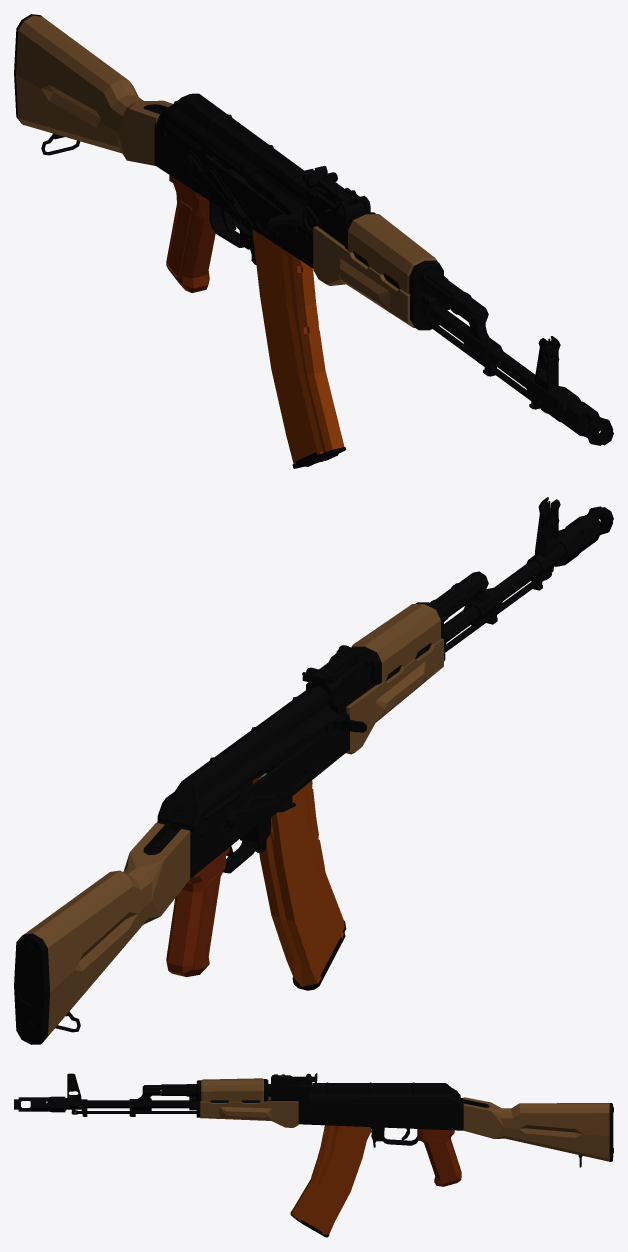
The model's file is AK74 World.fbx.
The picture shows the model from 3 angles, top to bottom: view 1: azimuth 30°, elevation 25°; view 2: azimuth 150°, elevation 25°; view 3: azimuth 270°, elevation 25°; orthographic projection. The views are drawn at different scales.
Visible parts, largest first — view 1: ak-74; view 2: ak-74; view 3: ak-74.
Boxes of the visible parts, x1=… form: ak-74: x1=14, y1=14, x2=613, y2=468; ak-74: x1=14, y1=497, x2=613, y2=1044; ak-74: x1=14, y1=1073, x2=613, y2=1237.
Size of the model in its own units: 9.67 by 38.26 by 129.
